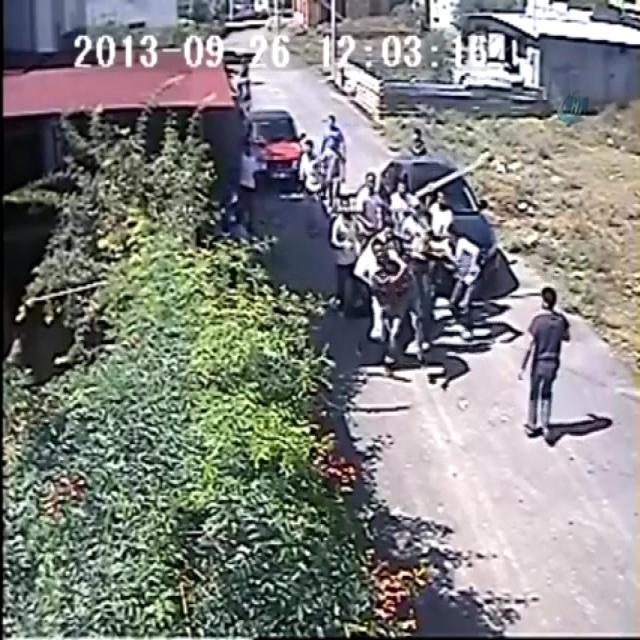fight: (363, 224, 414, 370)
